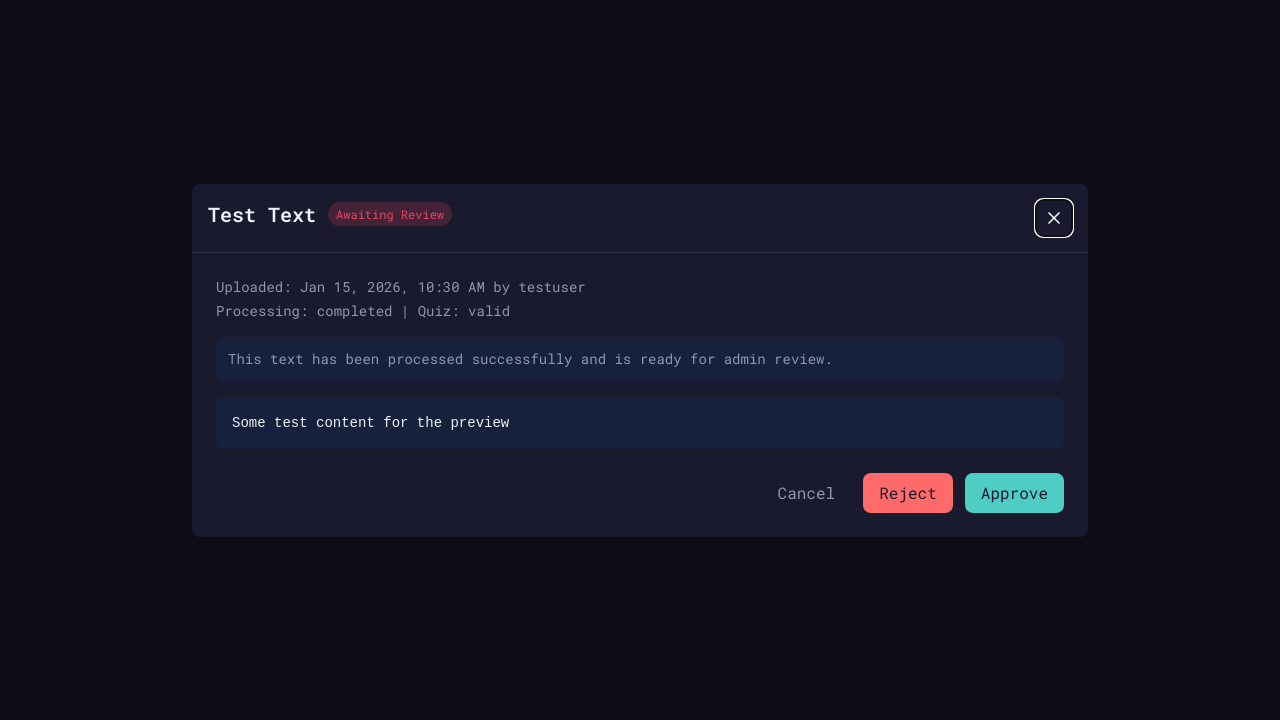
Test: TextPreviewModal › should show reject form when Reject button clicked
Click the button "Reject" at (908, 492), box [863,472,953,512]
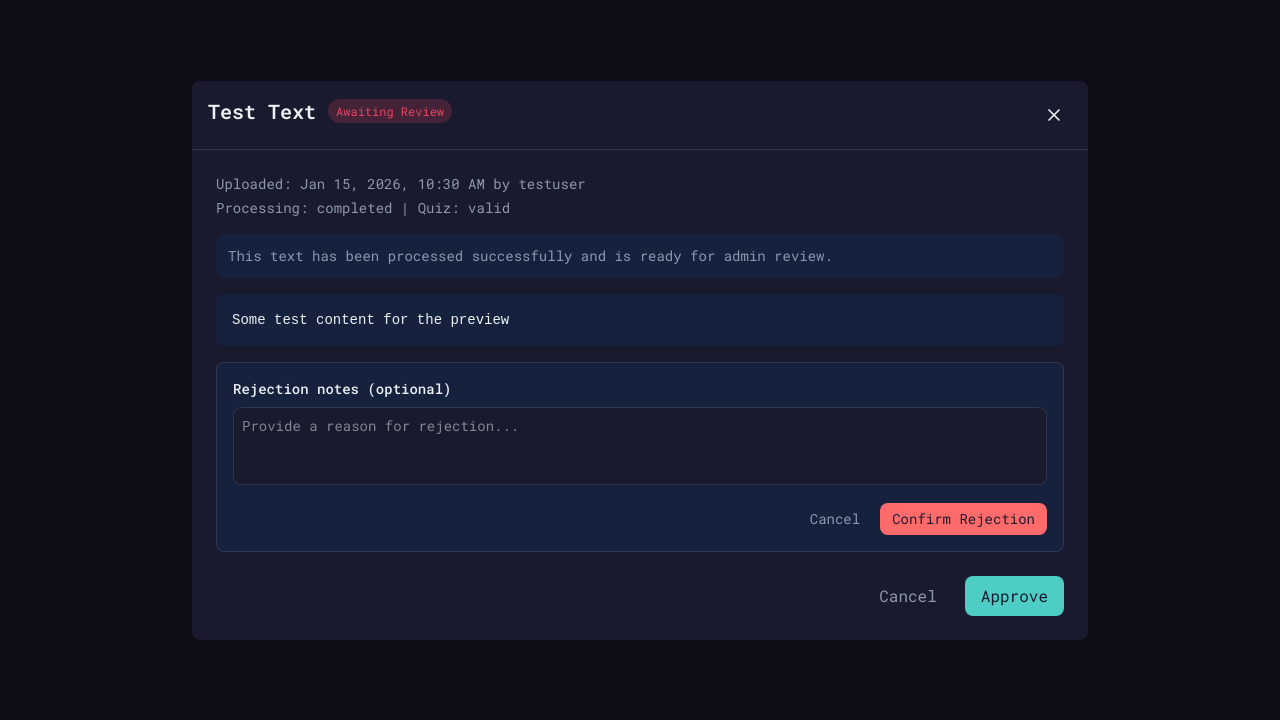
Expected: the text box labelled "Rejection notes (optional)" is shown, [233,406,1047,484]
Expected: the button "Confirm Rejection" is shown, [880,502,1047,534]
